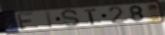2: (108, 6, 128, 25)
8: (129, 5, 146, 23)
F: (16, 11, 36, 31)
I: (46, 10, 55, 30)
S: (60, 9, 82, 28)
T: (82, 8, 98, 25)
